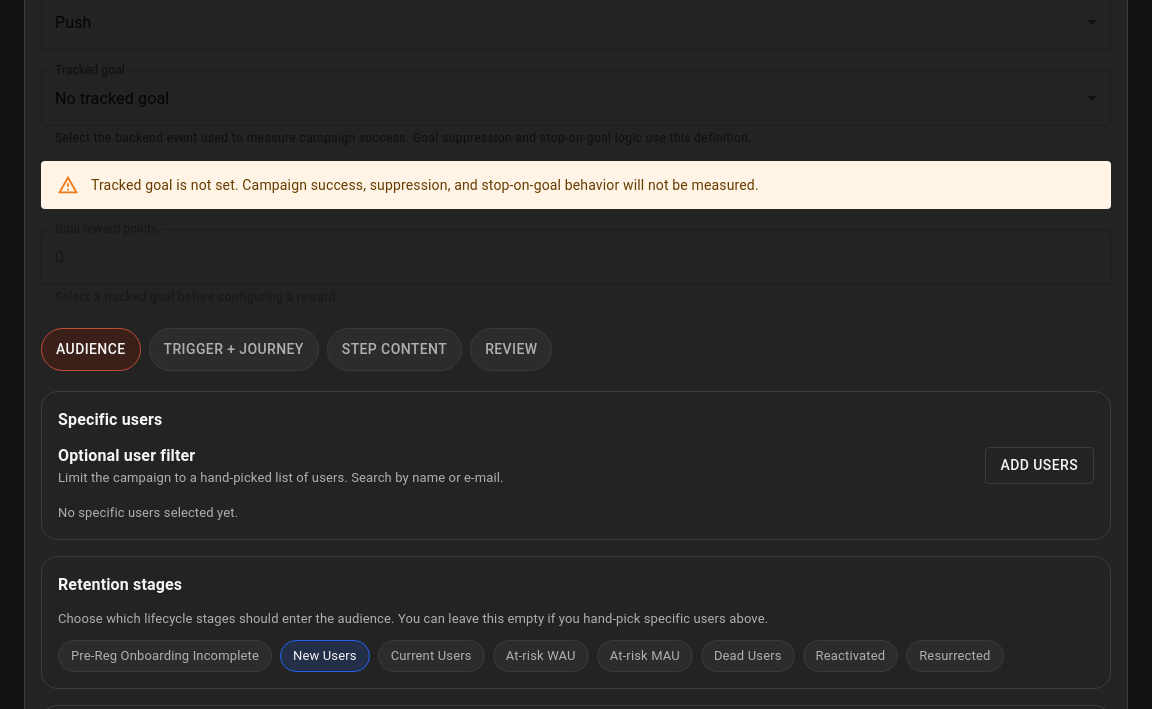
Test: CampaignEditorPage › appends a journey row when + Add step is used
(page scrolled)
Click the button "Trigger + Journey": (234, 349) [149,328,319,370]
(page scrolled)
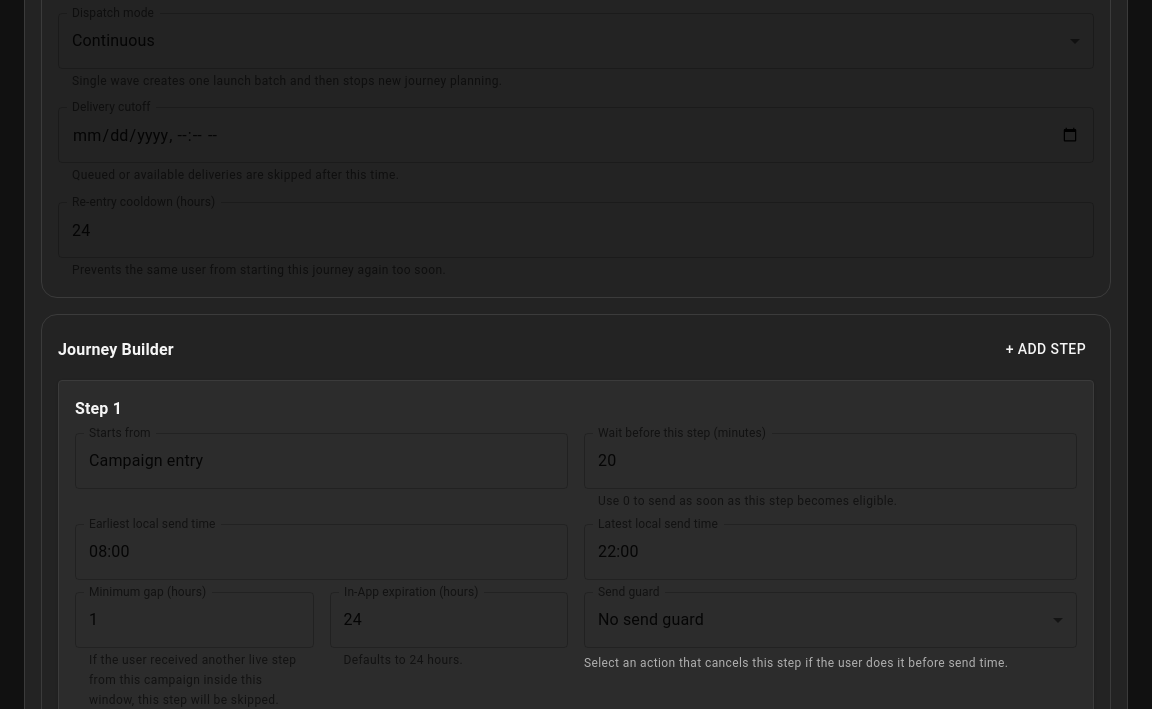
expect the text "Step 1" is shown: met, box [75,397,122,421]
Click the button "+ Add step": (1046, 350) [998,331,1094,368]
(page scrolled)
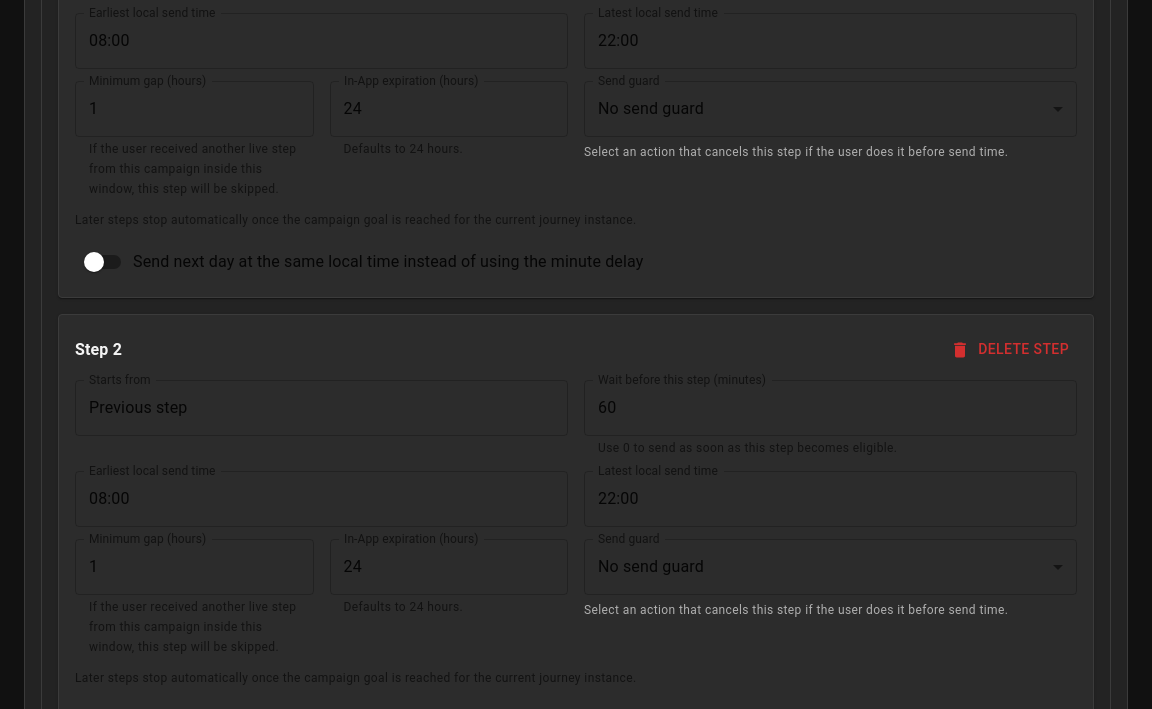
expect the text "Step 2" is shown: met, box [75,338,122,362]
